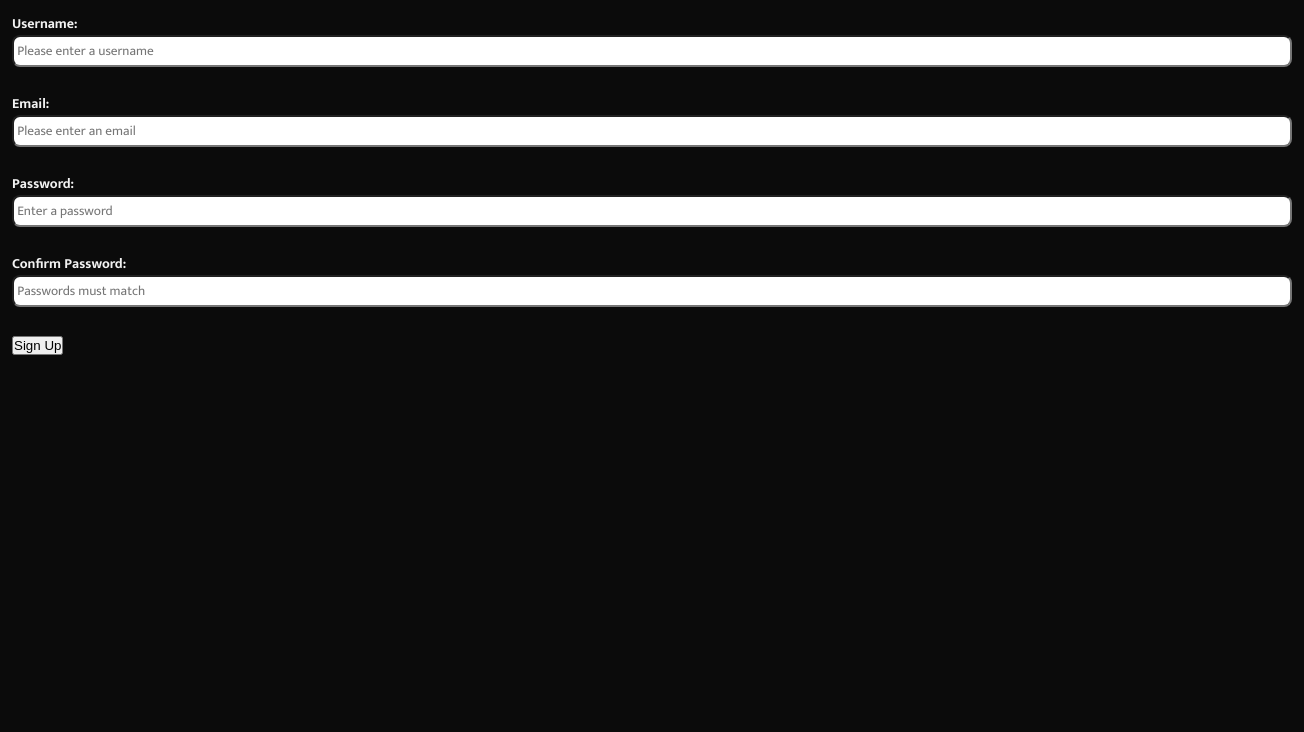
Test case: Sign Up form › Removes error message if user inputs correctly
Step 1. Click the field labelled "Username:" → [652, 51], box [12,35,1292,67]
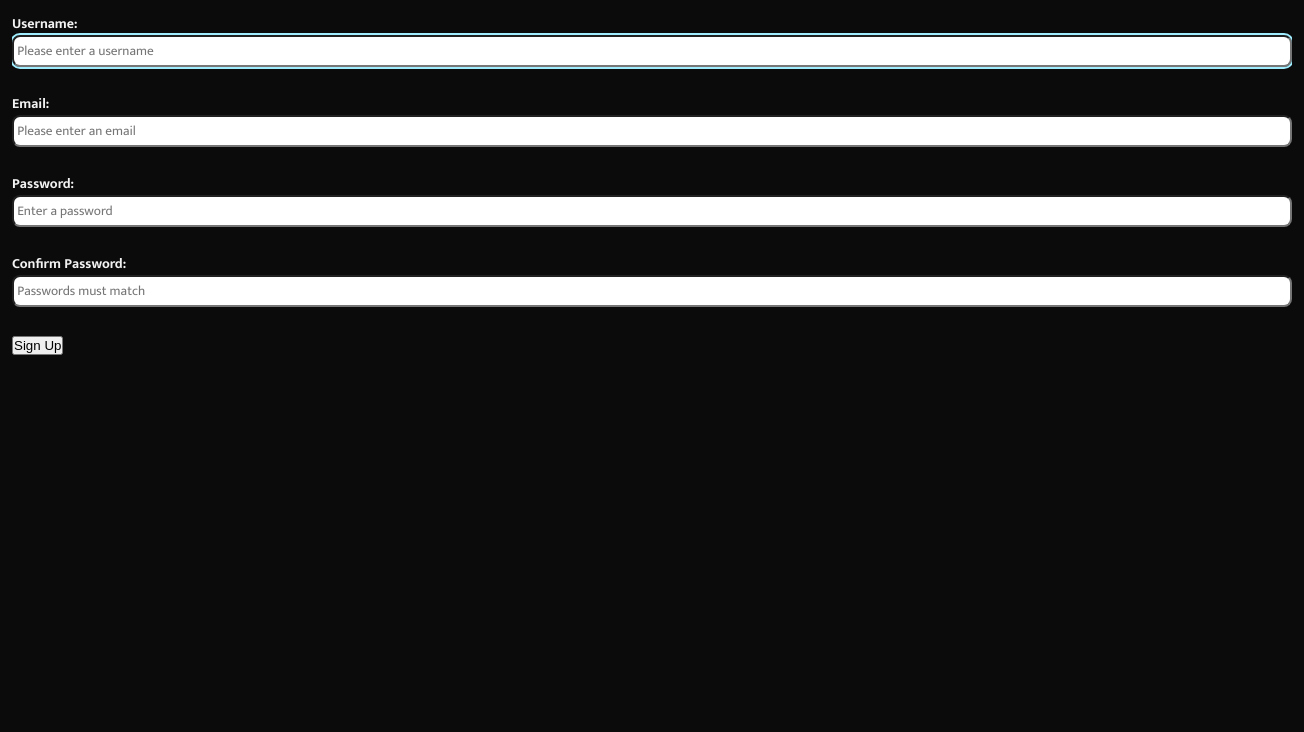
Step 2. Click the element showing "Username: Email: Password: Confirm Password: Sign Up" → [652, 372], box [12,12,1292,731]
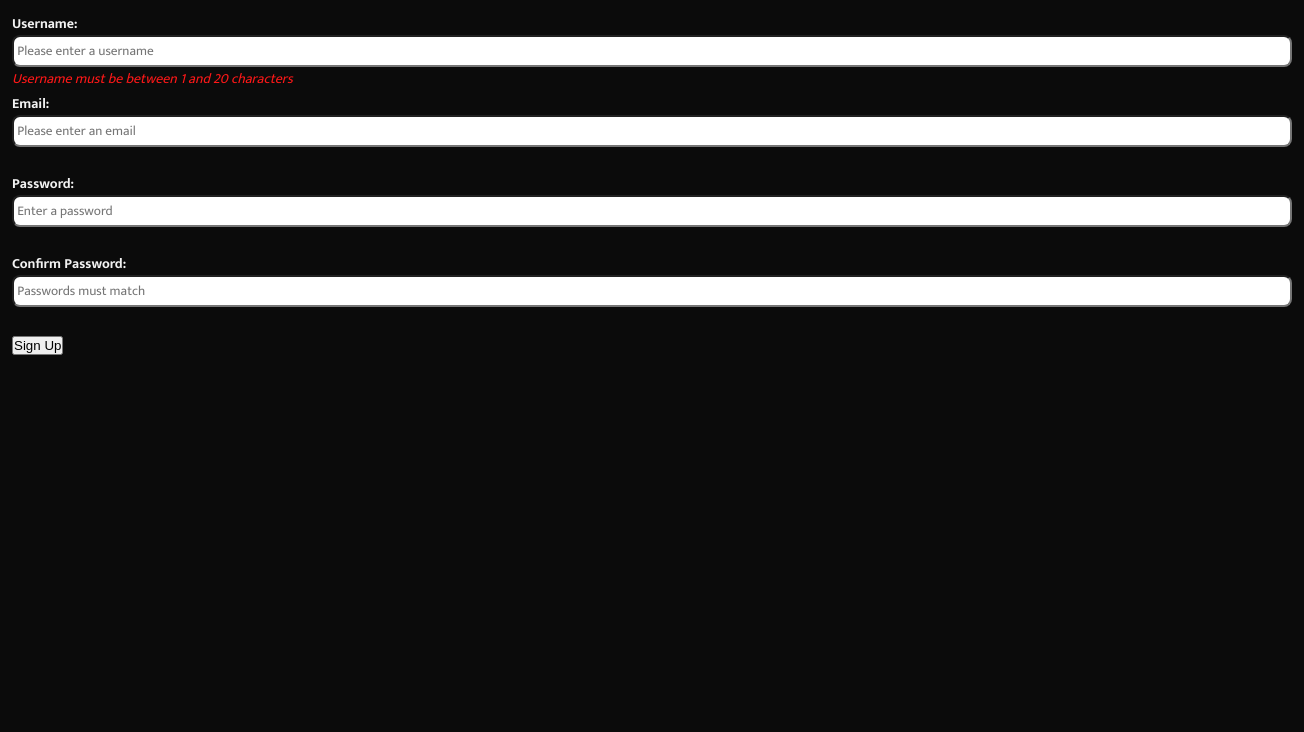
Step 3. Click the field labelled "Username:" → [652, 51], box [12,35,1292,67]
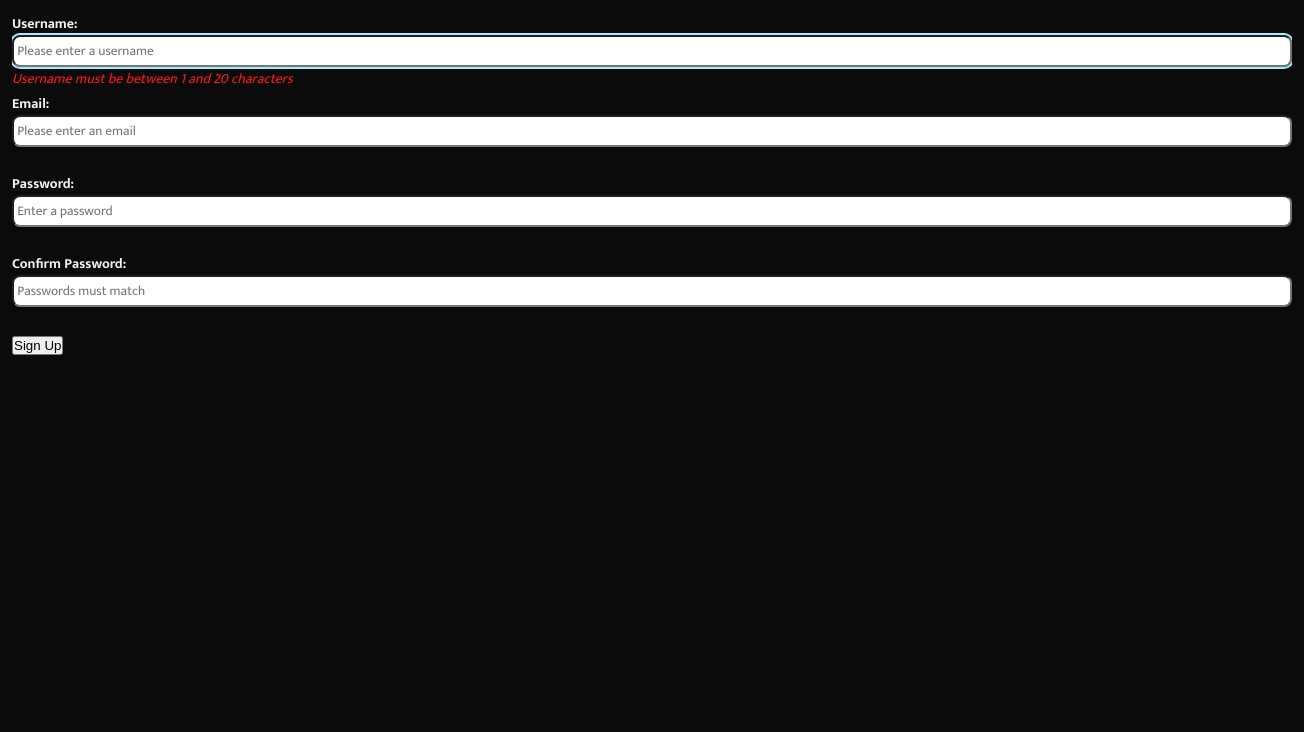
Step 4. Type keys "foo"
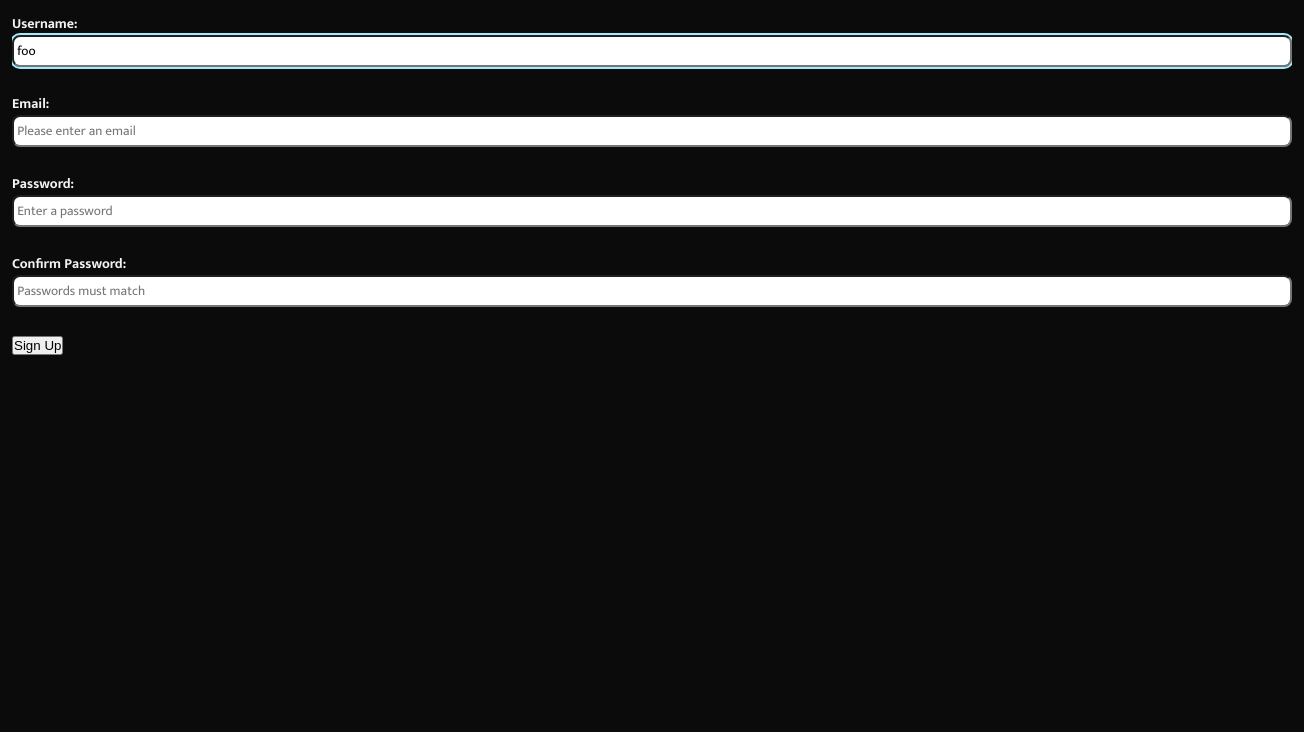
Result: the text "Username must be between 1 and 20 characters" is gone
